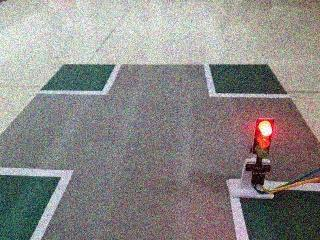red: (251, 115, 284, 169)
